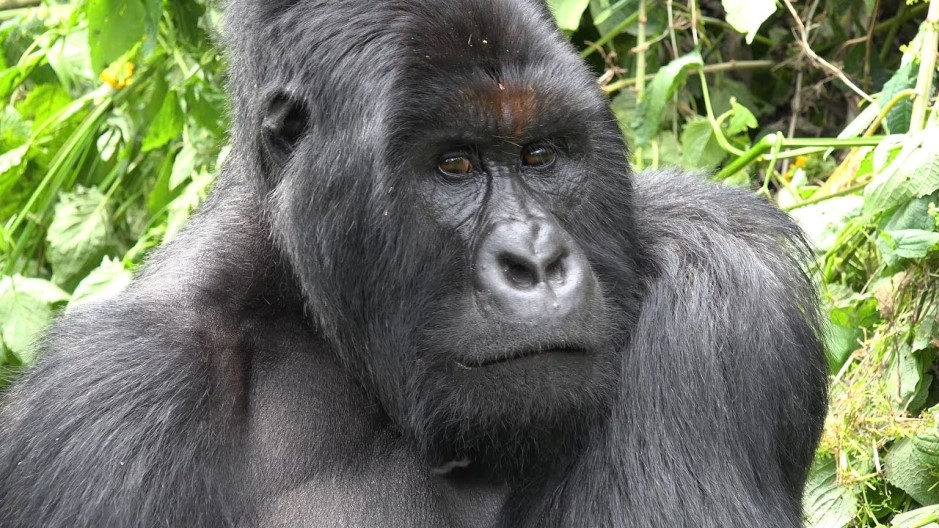Gorilla: (179, 8, 725, 513)
